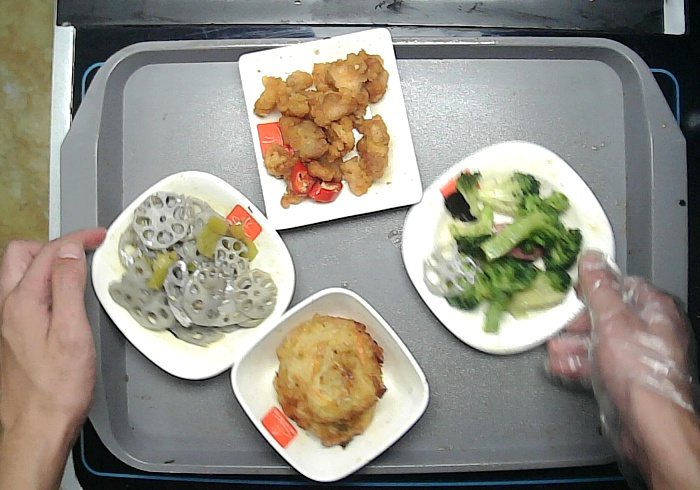SHKJ-Bai_Se_Cai_Die: (90, 169, 297, 380)
SHKJ-Bai_Se_Si_Fang_Cai_Die: (401, 140, 617, 356)
SHKJ-Bai_Se_Xiao_Fang_Die: (229, 286, 431, 482)
SHKJ-Si_Fang_Min: (237, 27, 424, 231)
